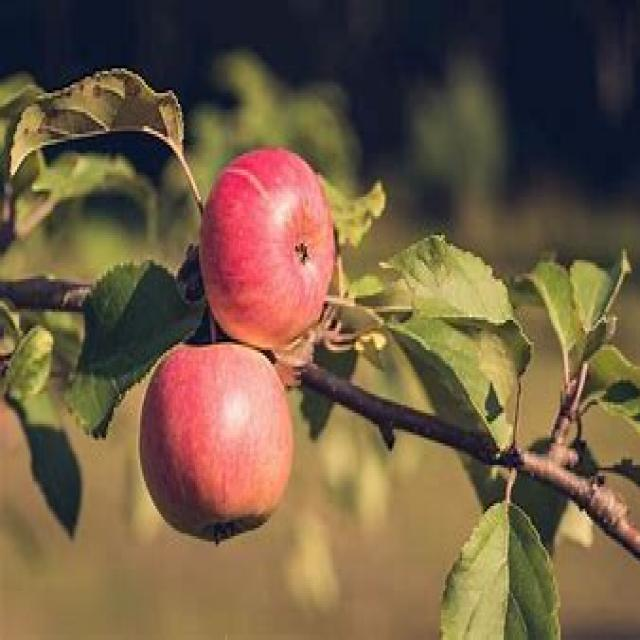Apple: (126, 342, 297, 554), (200, 140, 342, 357)
